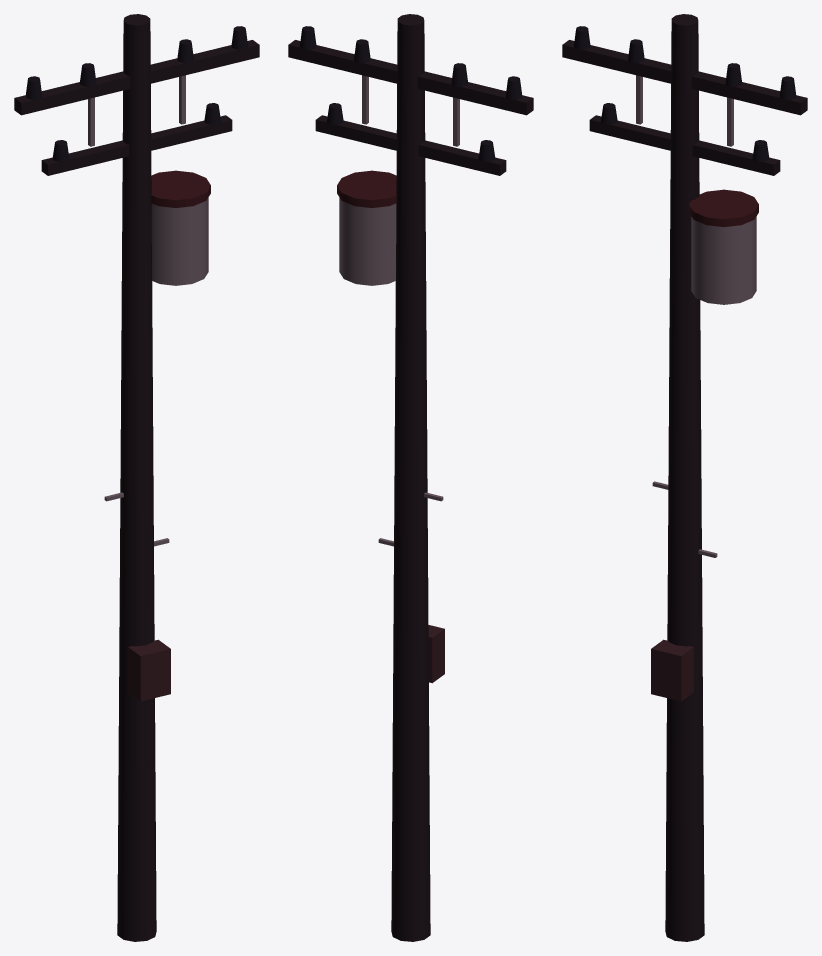
File: SM_UtilityPole_01.obj
3 views of the same model, side by side, from view 1: azimuth 30°, elevation 25°; view 2: azimuth 150°, elevation 25°; view 3: azimuth 330°, elevation 25° (orthographic).
Parts seen in each view (by area): view 1: pole_shaft, transformer_can, crossarm_upper, crossarm_lower, service_box, transformer_lid; view 2: pole_shaft, transformer_can, crossarm_upper, crossarm_lower, transformer_lid, service_box; view 3: pole_shaft, transformer_can, crossarm_upper, crossarm_lower, service_box, transformer_lid.
Boxes of the visible parts, x1=… form: pole_shaft: x1=117, y1=27, x2=156, y2=941; transformer_can: x1=151, y1=197, x2=208, y2=285; crossarm_upper: x1=14, y1=40, x2=259, y2=115; crossarm_lower: x1=41, y1=115, x2=232, y2=175; service_box: x1=128, y1=639, x2=170, y2=701; transformer_lid: x1=151, y1=170, x2=210, y2=207; pole_shaft: x1=391, y1=27, x2=430, y2=941; transformer_can: x1=339, y1=197, x2=396, y2=285; crossarm_upper: x1=288, y1=40, x2=533, y2=115; crossarm_lower: x1=315, y1=115, x2=506, y2=175; transformer_lid: x1=337, y1=170, x2=396, y2=207; service_box: x1=428, y1=625, x2=444, y2=683; pole_shaft: x1=665, y1=27, x2=704, y2=941; transformer_can: x1=691, y1=216, x2=756, y2=304; crossarm_upper: x1=562, y1=40, x2=807, y2=115; crossarm_lower: x1=589, y1=115, x2=780, y2=175; service_box: x1=651, y1=639, x2=693, y2=701; transformer_lid: x1=689, y1=189, x2=758, y2=226.
Size of the model in its own units: 2.2 by 8.06 by 0.58.
